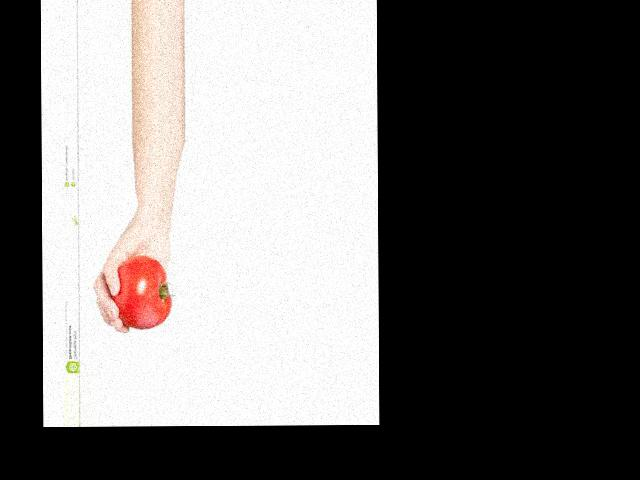tomato: (111, 255, 172, 329)
